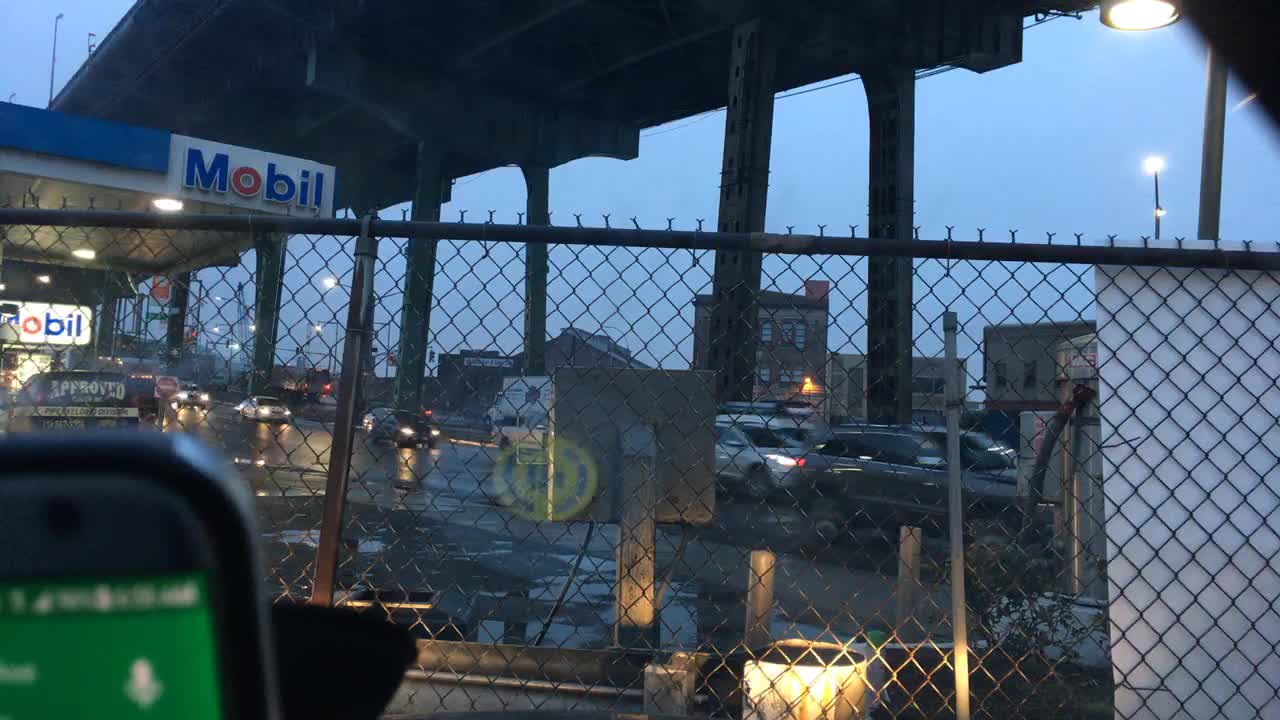bus: (719, 398, 816, 420)
car: (799, 420, 1059, 554), (713, 409, 810, 493), (10, 368, 133, 431), (360, 404, 438, 445), (489, 413, 550, 449), (235, 395, 290, 420), (133, 377, 161, 423), (174, 384, 208, 409), (490, 388, 504, 420), (420, 406, 431, 420)
traffic sign: (551, 363, 714, 525), (152, 374, 177, 395), (148, 277, 170, 299), (142, 310, 167, 319)
truck: (302, 365, 330, 395)
